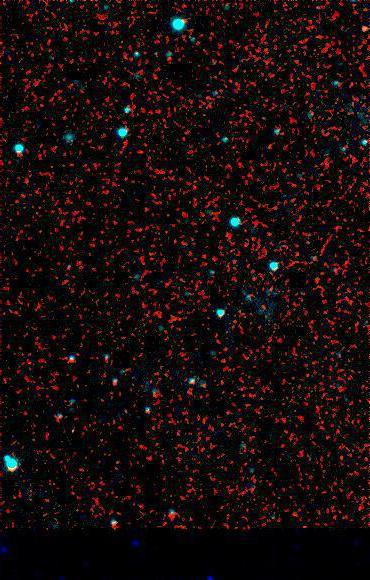star: (347, 16, 370, 46)
